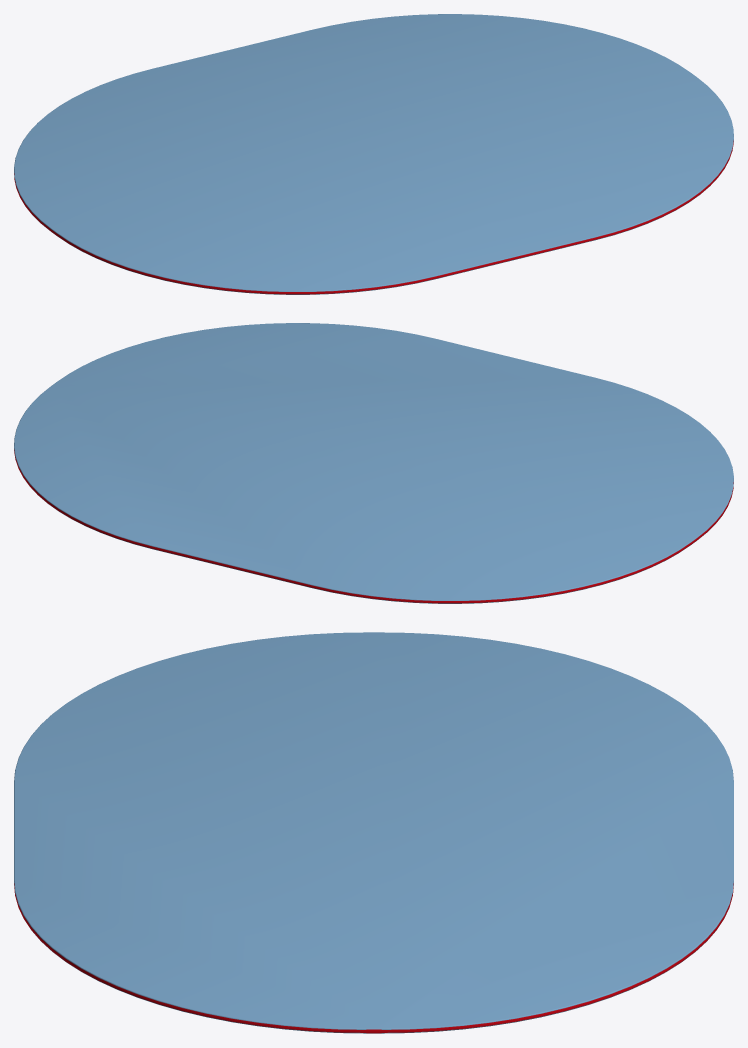
File: SM_Building_Floor_2.fbx
3 views of the same model, one above another, from view 1: azimuth 30°, elevation 25°; view 2: azimuth 150°, elevation 25°; view 3: azimuth 270°, elevation 25° (orthographic). The views are drawn at different scales.
Visible parts, largest first — view 1: SM_Building_Floor_2; view 2: SM_Building_Floor_2; view 3: SM_Building_Floor_2.
Part boxes in pixels (x1,y1,x2,y2): SM_Building_Floor_2: (14,14,733,294); SM_Building_Floor_2: (14,323,733,603); SM_Building_Floor_2: (14,632,733,1033).
Bounding box in the file's own units: 26.09 × 0.15 × 20.
